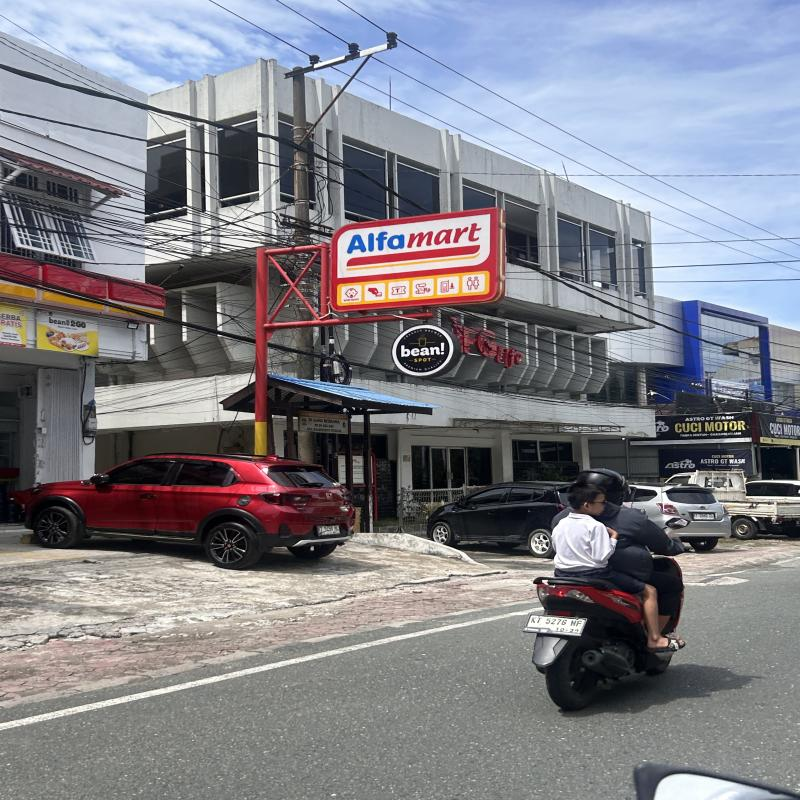license plate on a car: (317, 525, 341, 535), (692, 513, 716, 520)
